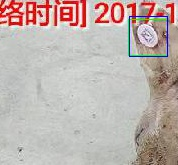text: (128, 19, 167, 55)
